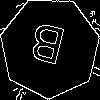B: (24, 22, 68, 75)
